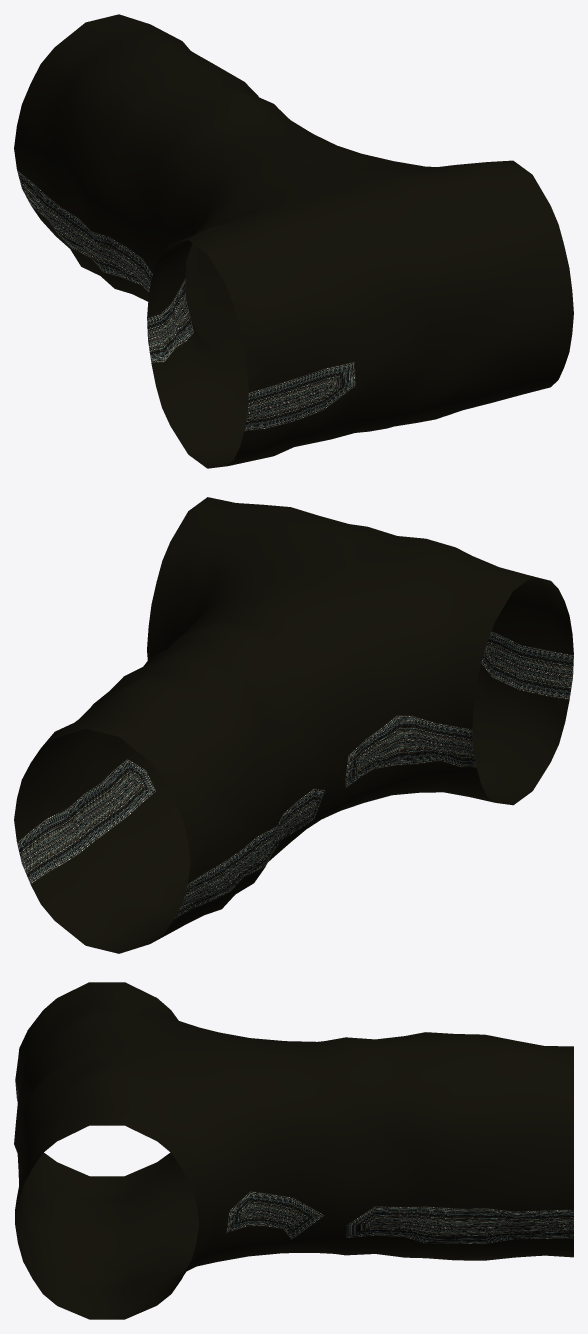
The model's file is tunnel_theta_t_junction.dae.
3 renders of one model, top to bottom at view 1: azimuth 30°, elevation 25°; view 2: azimuth 150°, elevation 25°; view 3: azimuth 270°, elevation 25°, orthographic. The views are drawn at different scales.
Visible parts, largest first — view 1: t_junction; view 2: t_junction; view 3: t_junction.
Boxes of the visible parts, x1,y1,x2,y2 form: t_junction: (14, 14, 573, 468); t_junction: (14, 497, 573, 953); t_junction: (14, 982, 573, 1319).
Bounding box in the file's own units: 8 × 5.53 × 13.2.
